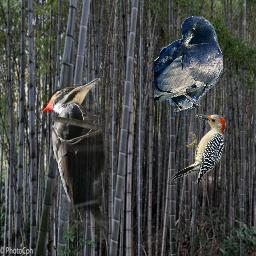Crow: (154, 16, 223, 116)
Woodpecker: (40, 78, 107, 248), (168, 111, 233, 184)
